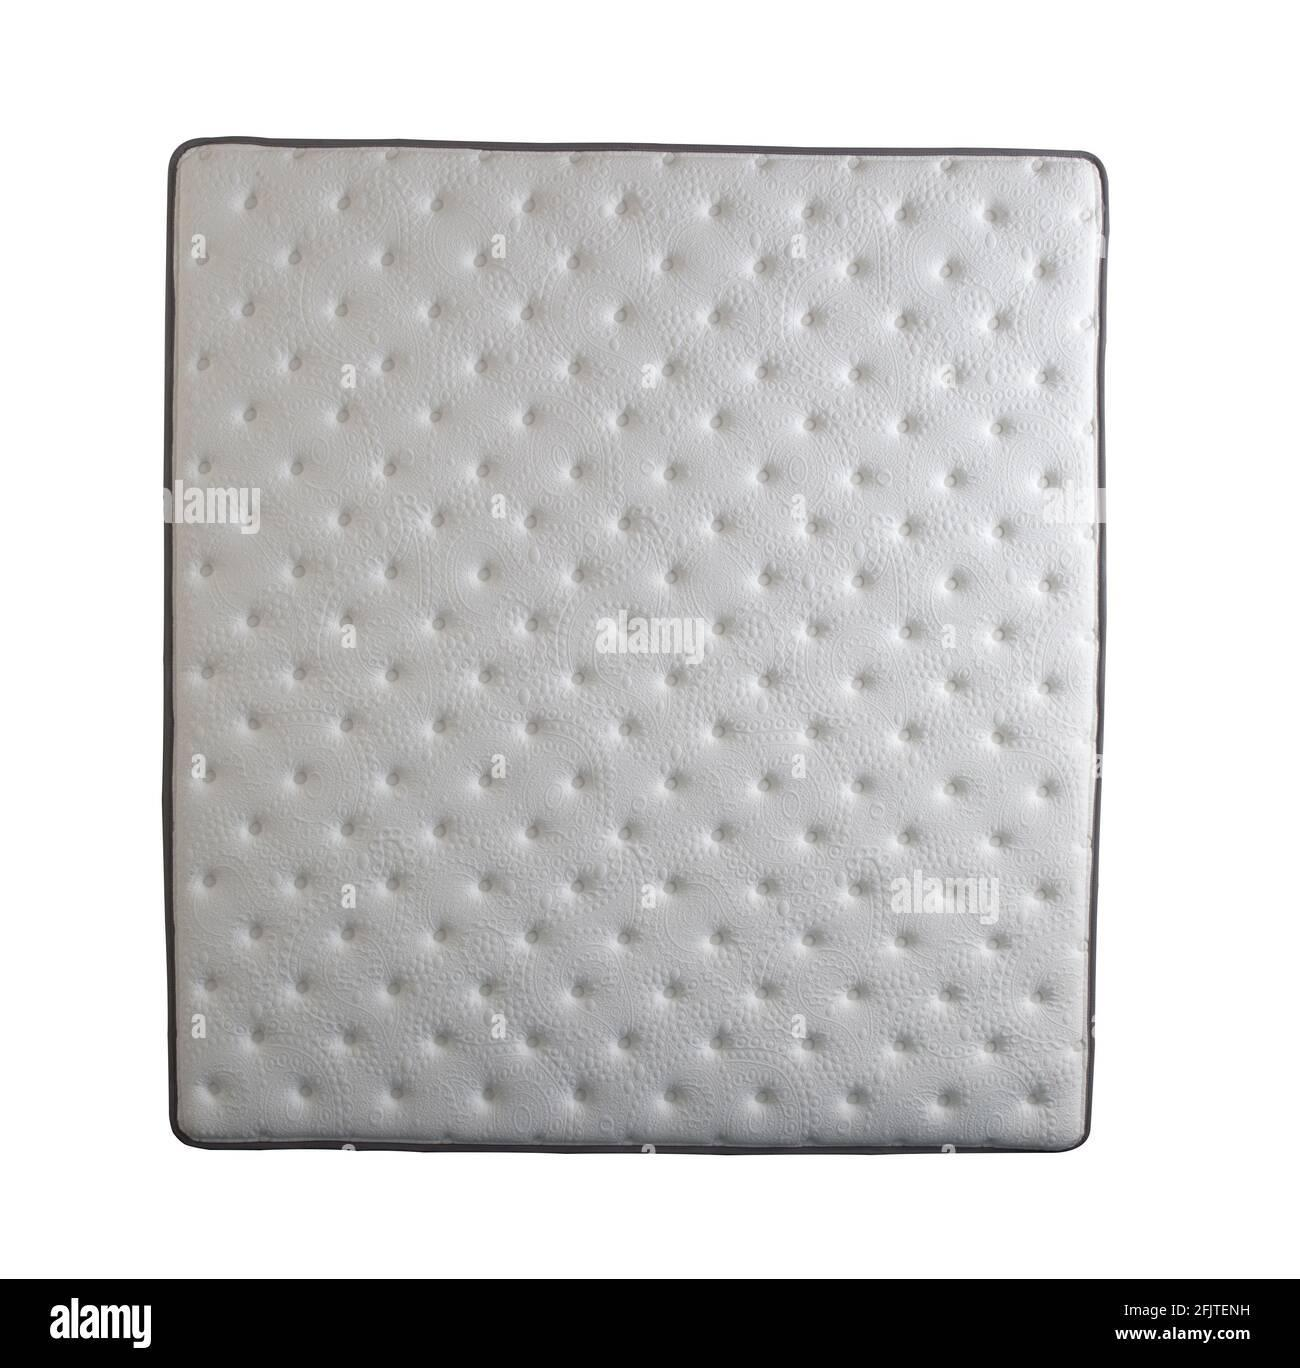Bed-Mattress: (158, 129, 1118, 1162)
